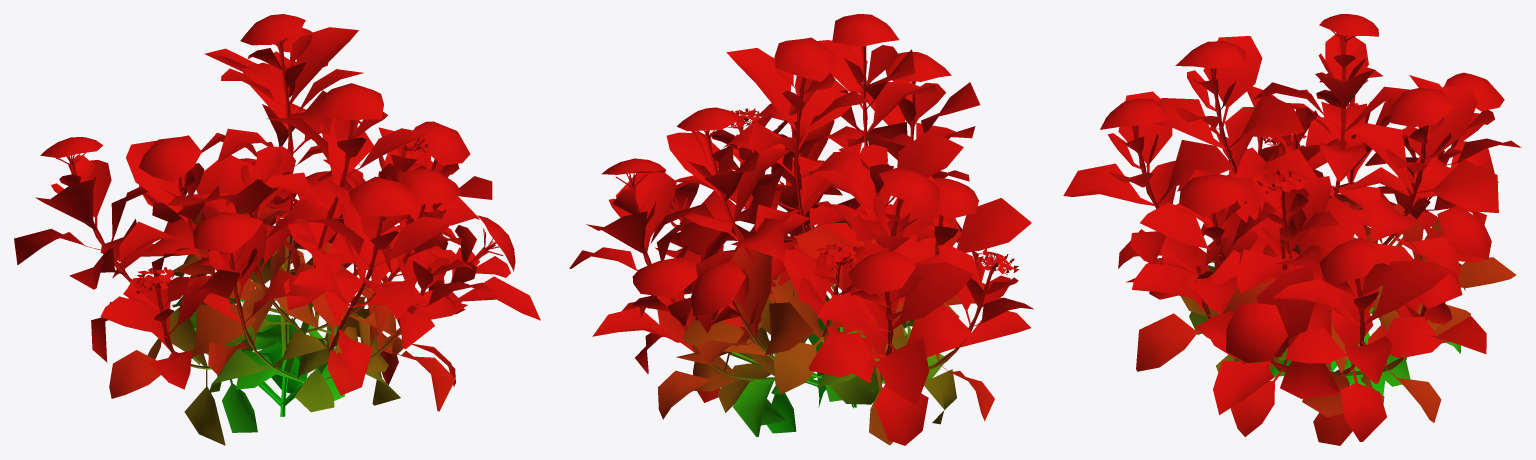
Rendered from Var2_LOD4.fbx.
3 renders of one model, left to right at view 1: azimuth 30°, elevation 25°; view 2: azimuth 150°, elevation 25°; view 3: azimuth 270°, elevation 25°, orthographic.
Parts seen in each view (by area): view 1: _ydjh_Var2_LOD4; view 2: _ydjh_Var2_LOD4; view 3: _ydjh_Var2_LOD4.
Boxes of the visible parts, bbox=[...] form: _ydjh_Var2_LOD4: bbox=[14, 14, 540, 445]; _ydjh_Var2_LOD4: bbox=[569, 14, 1033, 445]; _ydjh_Var2_LOD4: bbox=[1063, 14, 1521, 445].
Size of the model in its own units: 153 by 133 by 146.
